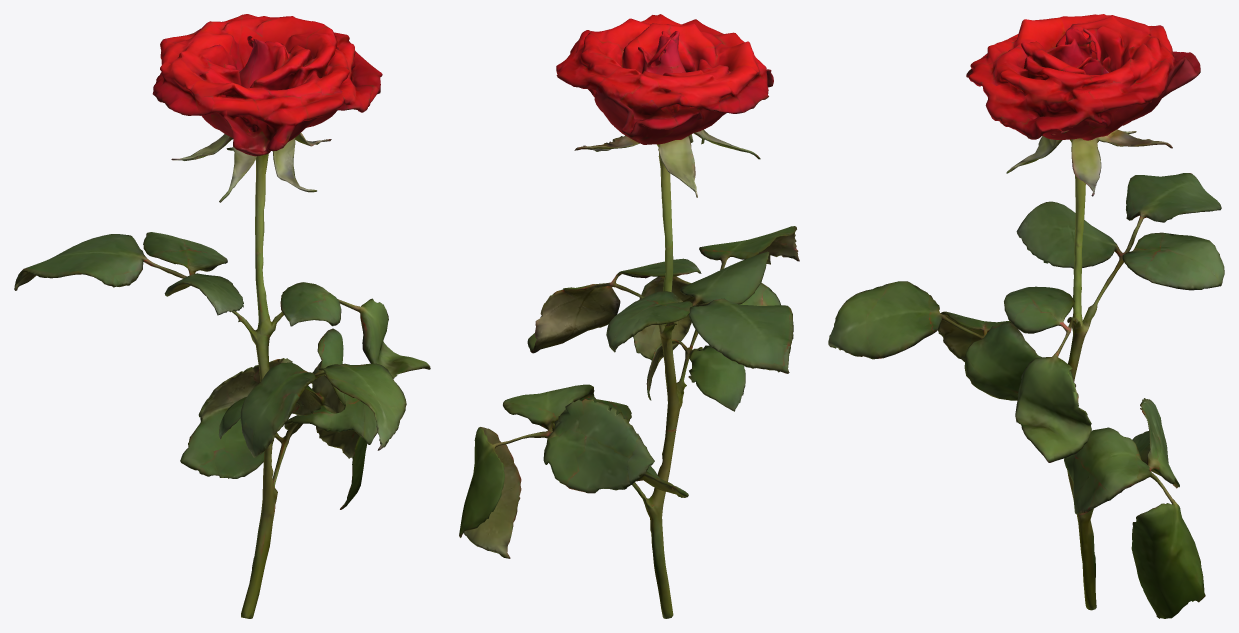
The model's file is rose.glb.
The picture shows the model from 3 angles, left to right: view 1: azimuth 30°, elevation 25°; view 2: azimuth 150°, elevation 25°; view 3: azimuth 270°, elevation 25°; orthographic projection.
Parts seen in each view (by area): view 1: Object_2; view 2: Object_2; view 3: Object_2.
Boxes of the visible parts, box(x1,y1,x2,y2) form: Object_2: box(14, 14, 430, 618); Object_2: box(459, 14, 799, 618); Object_2: box(828, 14, 1224, 618).
Size of the model in its own units: 1.51 by 2.49 by 1.54.
Materials: 1 (1 with a texture image).
